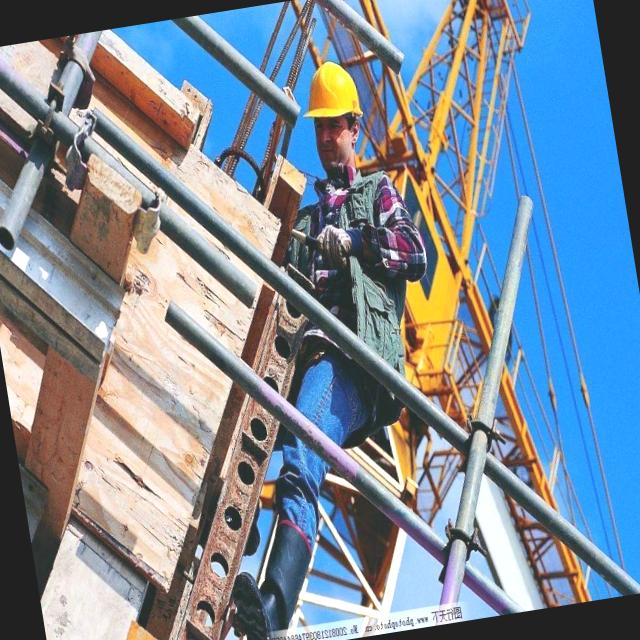helmet: (297, 56, 363, 127)
no-vest: (284, 158, 420, 326)
